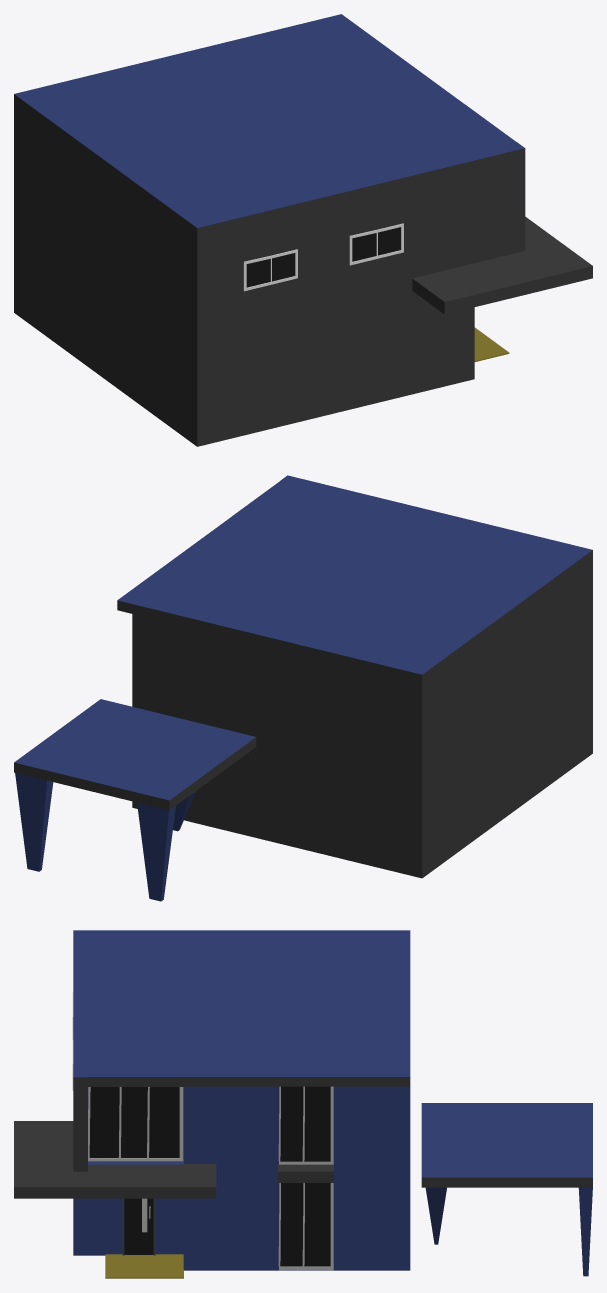
File: Building_House4_Blue.fbx
The picture shows the model from 3 angles, top to bottom: view 1: azimuth 30°, elevation 25°; view 2: azimuth 150°, elevation 25°; view 3: azimuth 270°, elevation 25°; orthographic projection. The views are drawn at different scales.
Visible parts, largest first — view 1: Cube, Plane; view 2: Cube, Plane.001; view 3: Cube, Plane.001, Cube.002, Cube.004, Cube.003, Cube.001, Plane.
Boxes of the visible parts, x1,y1,x2,y2 form: Cube: (14,14,592,446); Plane: (474,327,509,361); Cube: (117,475,592,878); Plane.001: (14,699,256,901); Cube: (14,930,410,1270); Plane.001: (421,1103,592,1276); Cube.002: (88,1087,183,1161); Cube.004: (278,1183,333,1270); Cube.003: (278,1086,333,1164); Cube.001: (122,1198,155,1255); Plane: (105,1254,183,1278).
Size of the model in its own units: 1224 by 704 by 1839.
